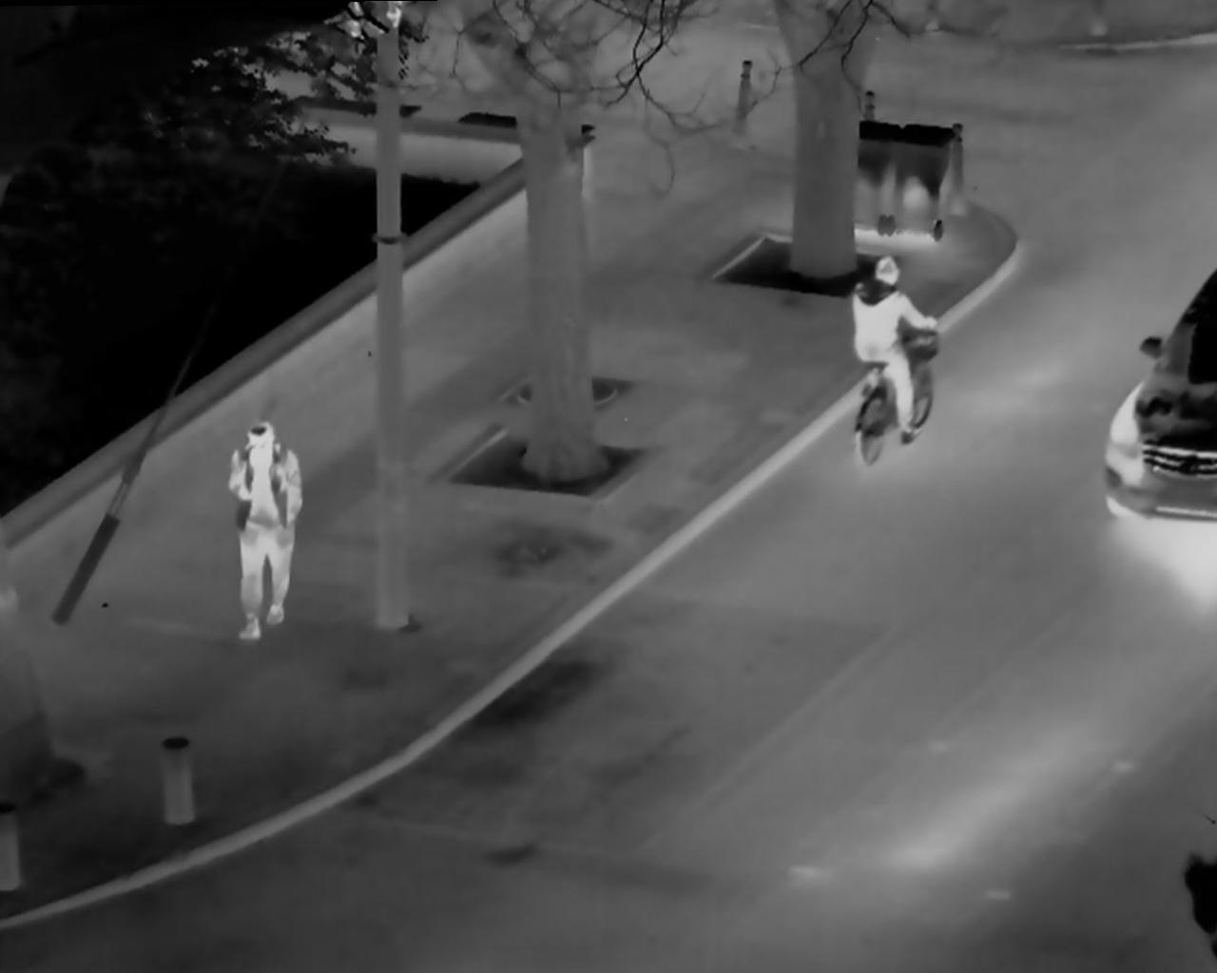person: (839, 250, 937, 450), (222, 417, 304, 651)
